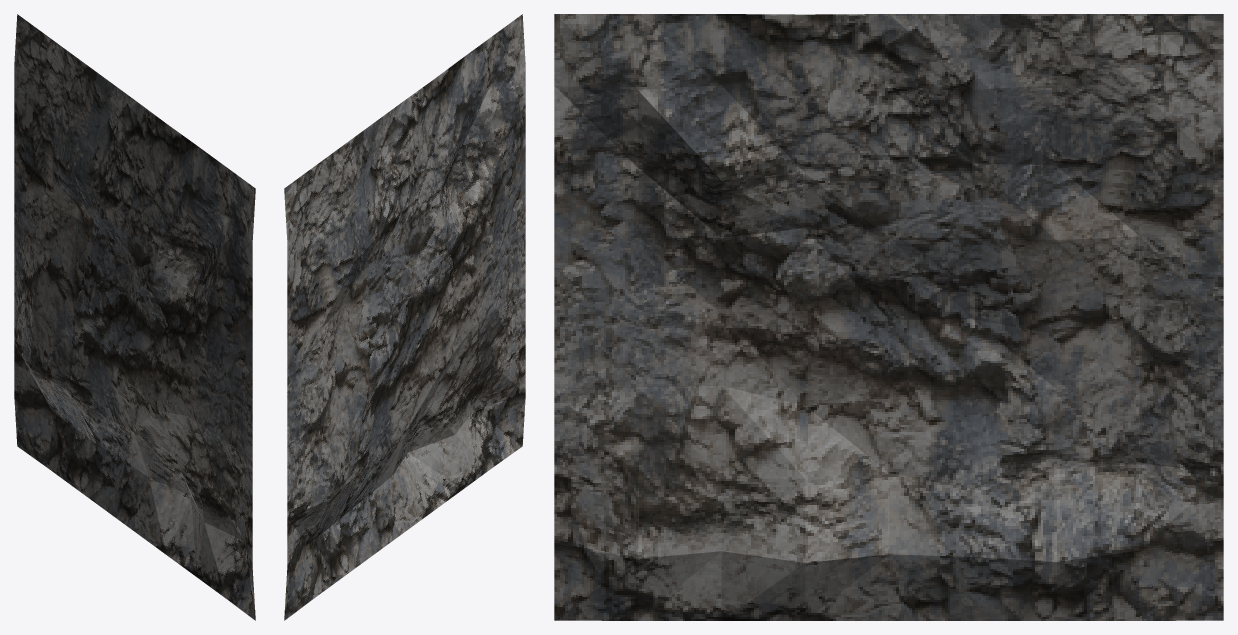
File: 02_wall_01_seamless.glb
3 renders of one model, left to right at view 1: azimuth 30°, elevation 25°; view 2: azimuth 150°, elevation 25°; view 3: azimuth 270°, elevation 25°, orthographic. The views are drawn at different scales.
Parts seen in each view (by area): view 1: 02_wall_01_seamless; view 2: 02_wall_01_seamless; view 3: 02_wall_01_seamless.
Part boxes in pixels (x1,y1,x2,y2): 02_wall_01_seamless: (14,14,255,620); 02_wall_01_seamless: (284,14,525,620); 02_wall_01_seamless: (554,14,1223,620).
Size of the model in its own units: 1.61 by 16 by 16.
Materials: 1 (1 with a texture image).
